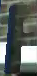Parking: (6, 0, 36, 73)
